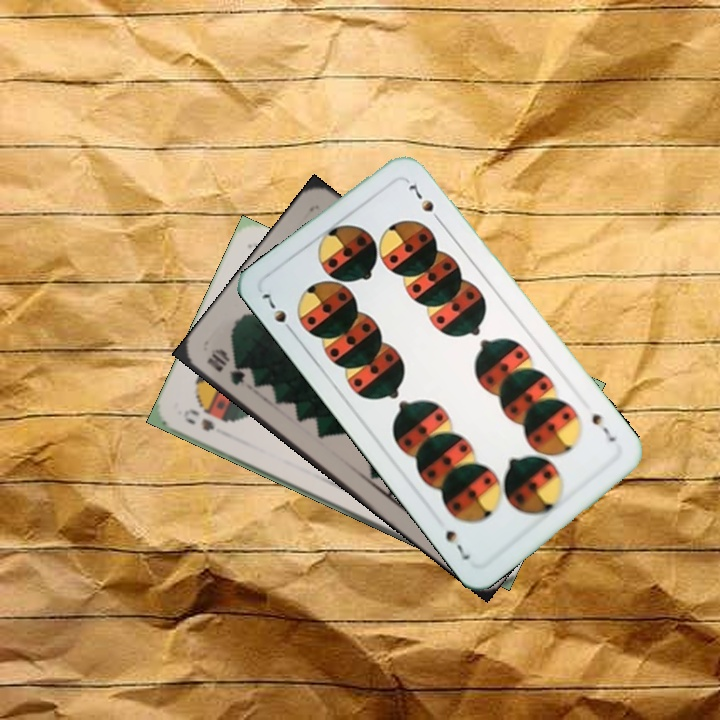G10: (202, 344, 248, 389)
S7: (257, 289, 298, 338), (587, 409, 619, 445)
SO: (179, 404, 217, 434)
